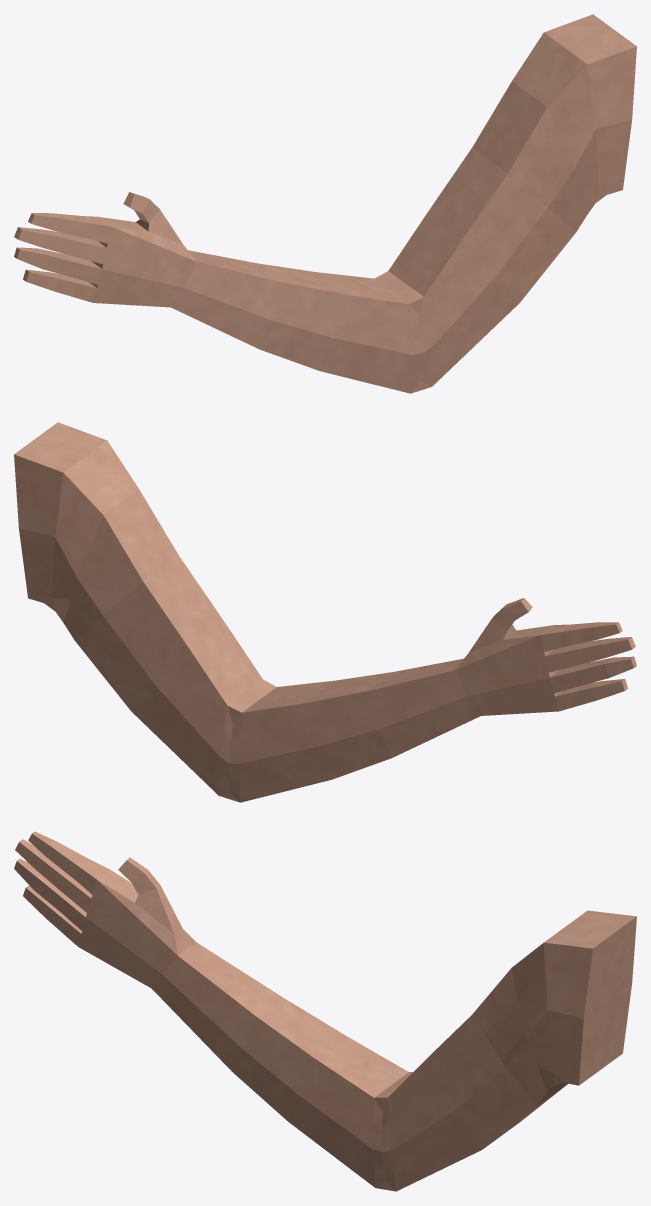
The model's file is terminal_arm.glb.
3 views of the same model, one above another, from view 1: azimuth 30°, elevation 25°; view 2: azimuth 150°, elevation 25°; view 3: azimuth 330°, elevation 25° (orthographic).
Parts seen in each view (by area): view 1: Cube; view 2: Cube; view 3: Cube.
Part boxes in pixels (box(x1,y1,x2,y2)): Cube: box(14, 14, 636, 393); Cube: box(14, 422, 636, 802); Cube: box(14, 831, 636, 1191).
Bounding box in the file's own units: 4.33 × 2.05 × 0.6038.
1 material, 1 textured.
